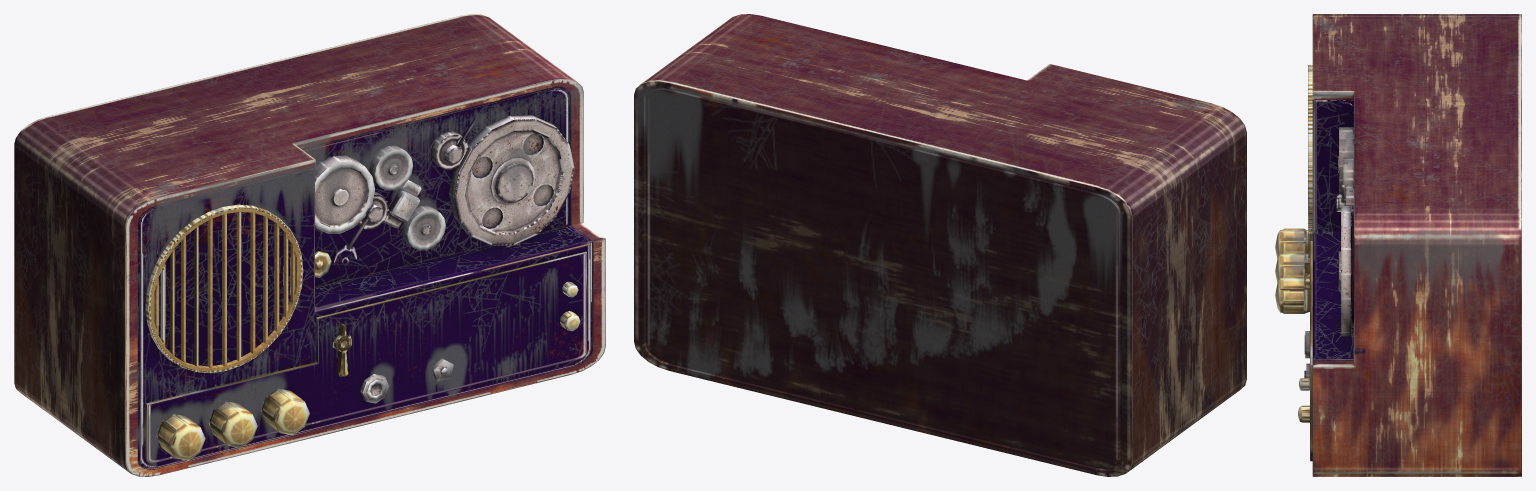
The picture shows the model from 3 angles, left to right: view 1: azimuth 30°, elevation 25°; view 2: azimuth 150°, elevation 25°; view 3: azimuth 270°, elevation 25°; orthographic projection. The views are drawn at different scales.
Parts seen in each view (by area): view 1: Cylinder.007; view 2: Cylinder.007; view 3: Cylinder.007.
Boxes of the visible parts, bbox=[...] form: Cylinder.007: bbox=[14, 14, 605, 476]; Cylinder.007: bbox=[634, 14, 1246, 476]; Cylinder.007: bbox=[1275, 14, 1521, 476].
Bounding box in the file's own units: 835 × 462 × 394.
1 material, 1 textured.
